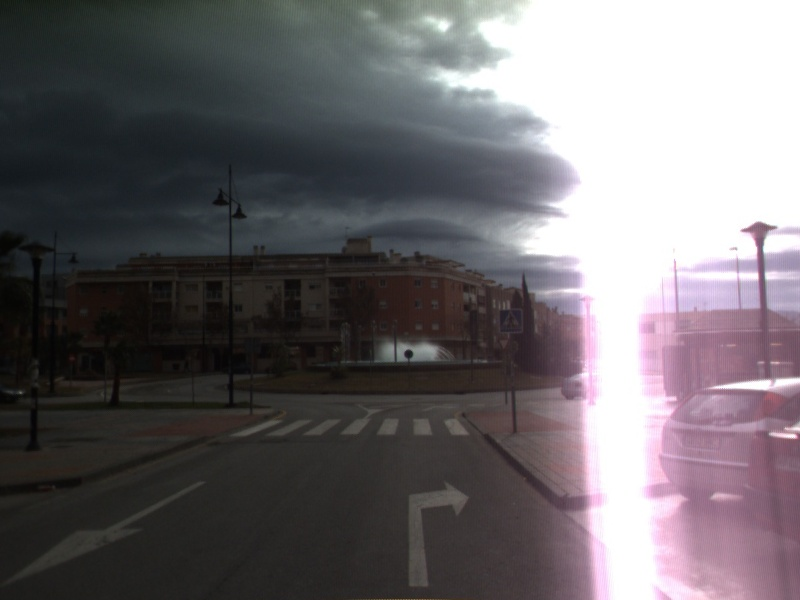RIGHT: (403, 478, 472, 589)
